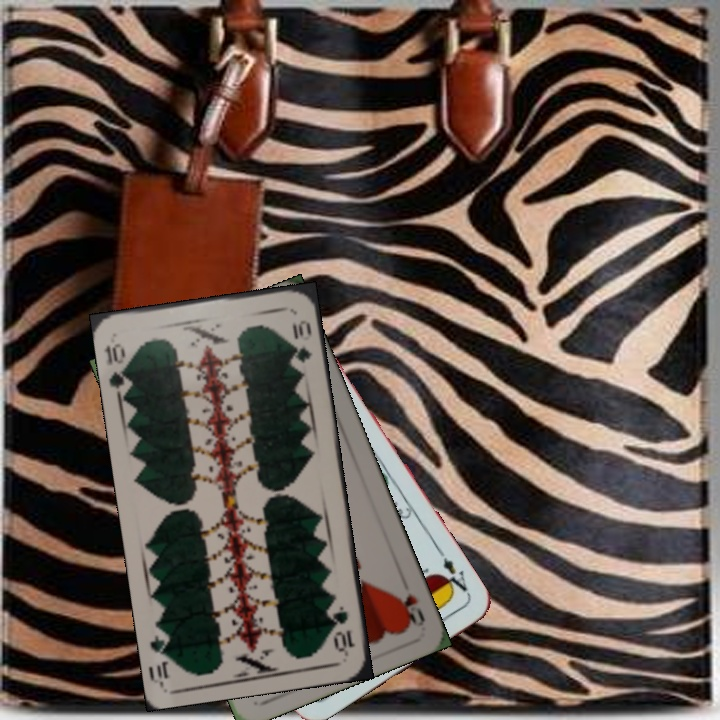EA: (434, 553, 470, 598)
G10: (101, 339, 134, 396), (328, 602, 358, 655)
HO: (393, 590, 428, 629)
